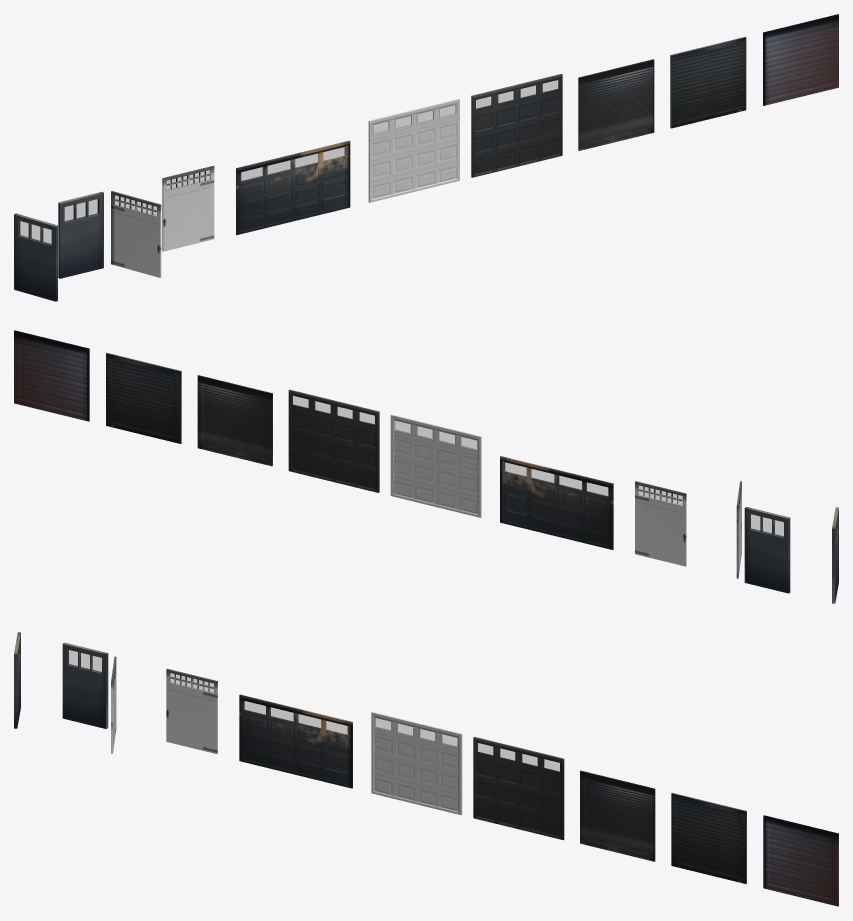
File: low-poly_psx_style_garage_doors_pack.glb
3 views of the same model, one above another, from view 1: azimuth 30°, elevation 25°; view 2: azimuth 150°, elevation 25°; view 3: azimuth 330°, elevation 25° (orthographic).
Parts seen in each view (by area): view 1: Garage Door_008, Garage Door_006, Garage Door_005, Garage Door_001, Garage Door_007, Garage Door_003, Garage Door_009, Garage Door_004, Garage Door_010, Garage Door_002; view 2: Garage Door_008, Garage Door_005, Garage Door_006, Garage Door_003, Garage Door_001, Garage Door_007, Garage Door_009, Garage Door_010, Garage Door_002; view 3: Garage Door_008, Garage Door_006, Garage Door_005, Garage Door_003, Garage Door_001, Garage Door_007, Garage Door_009, Garage Door_010, Garage Door_002.
Part boxes in pixels (bbox=[...]): Garage Door_008: bbox=[236, 140, 350, 235]; Garage Door_006: bbox=[471, 73, 562, 177]; Garage Door_005: bbox=[368, 99, 459, 202]; Garage Door_001: bbox=[670, 36, 746, 128]; Garage Door_007: bbox=[578, 59, 654, 150]; Garage Door_003: bbox=[763, 14, 838, 105]; Garage Door_009: bbox=[162, 165, 214, 251]; Garage Door_004: bbox=[111, 191, 161, 277]; Garage Door_010: bbox=[58, 191, 103, 278]; Garage Door_002: bbox=[14, 213, 57, 301]; Garage Door_008: bbox=[500, 456, 613, 549]; Garage Door_005: bbox=[390, 414, 481, 517]; Garage Door_006: bbox=[288, 389, 379, 492]; Garage Door_003: bbox=[14, 330, 89, 421]; Garage Door_001: bbox=[106, 353, 181, 443]; Garage Door_007: bbox=[197, 375, 272, 466]; Garage Door_009: bbox=[635, 481, 686, 566]; Garage Door_010: bbox=[744, 507, 790, 593]; Garage Door_002: bbox=[832, 507, 838, 603]; Garage Door_008: bbox=[239, 694, 352, 788]; Garage Door_006: bbox=[473, 737, 564, 840]; Garage Door_005: bbox=[371, 712, 462, 815]; Garage Door_003: bbox=[763, 815, 838, 906]; Garage Door_001: bbox=[671, 793, 746, 883]; Garage Door_007: bbox=[580, 770, 655, 861]; Garage Door_009: bbox=[166, 668, 217, 753]; Garage Door_010: bbox=[62, 642, 108, 728]; Garage Door_002: bbox=[14, 632, 20, 728].
Bounding box in the file's own units: 40.08 × 3.78 × 2.32.
2 materials, 1 textured.
